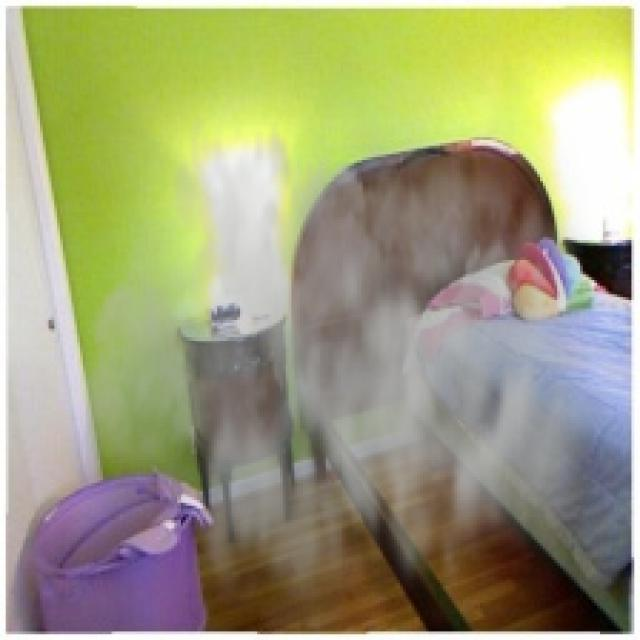Smoke: (86, 62, 623, 628)
